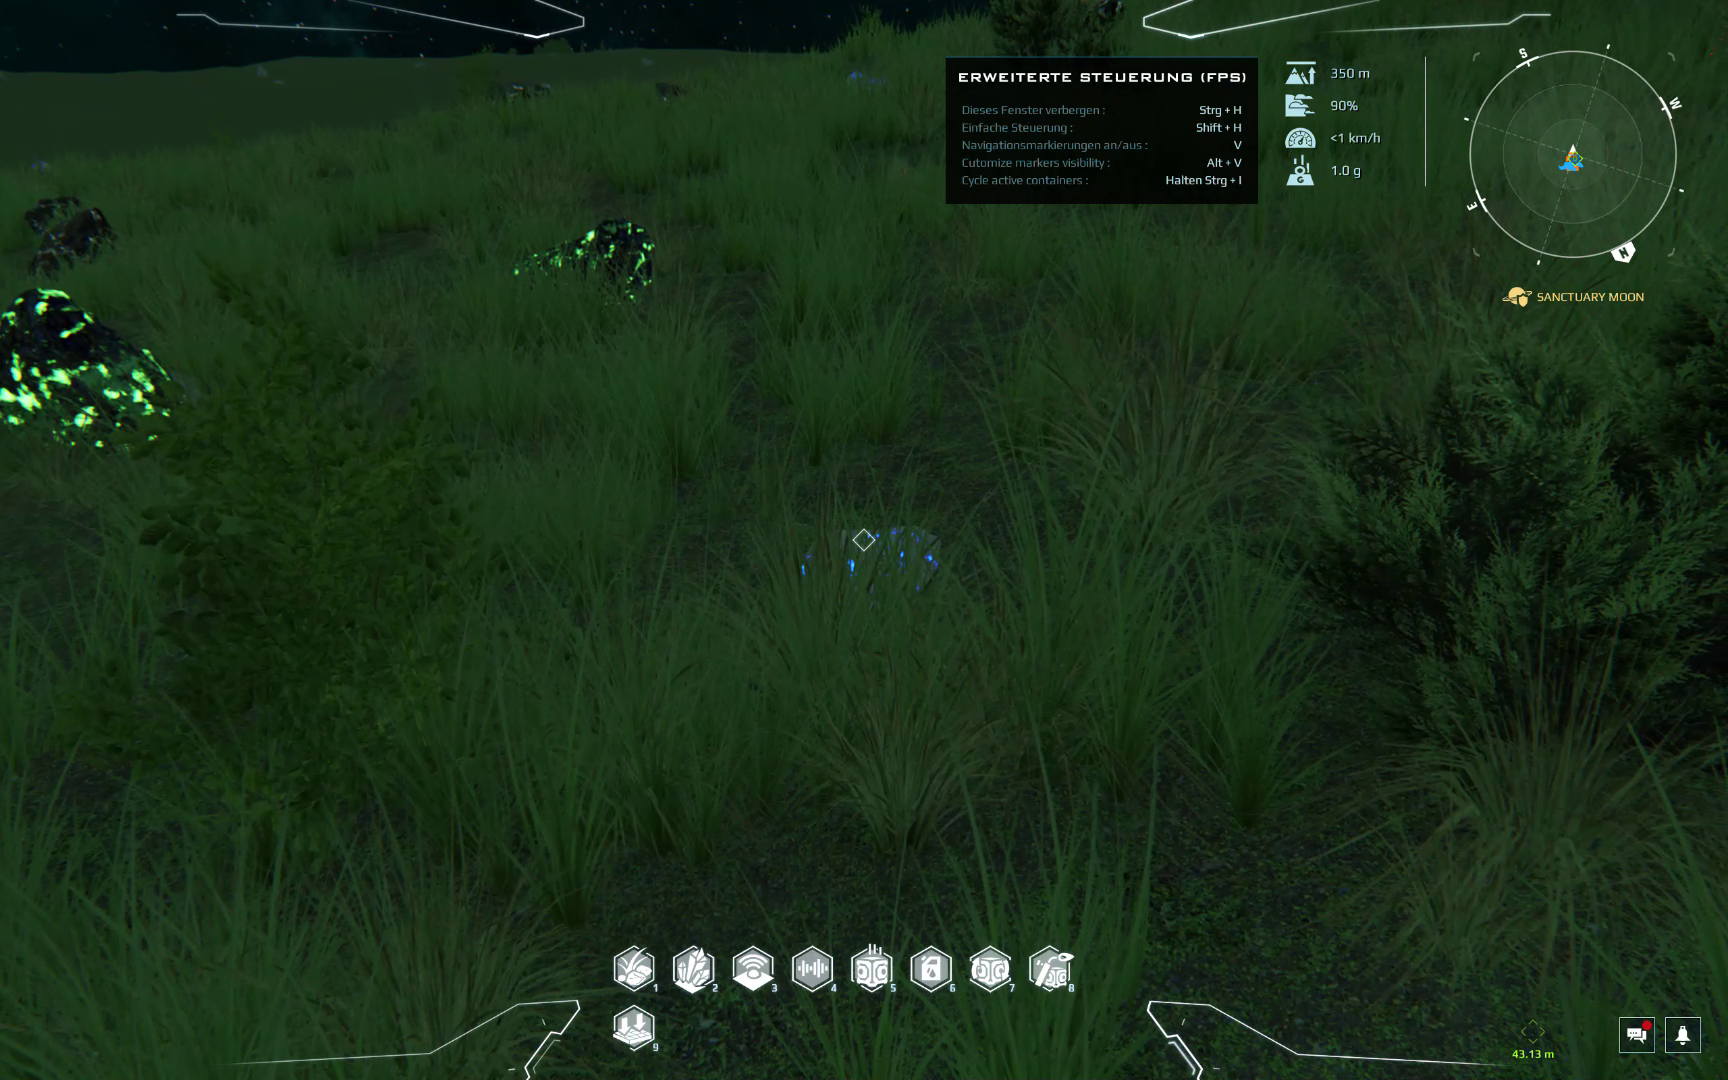Ore: (2, 282, 187, 467), (514, 216, 657, 317), (799, 516, 945, 605), (24, 205, 118, 285), (15, 192, 80, 235), (838, 63, 891, 95), (648, 80, 699, 109), (501, 80, 557, 103)
